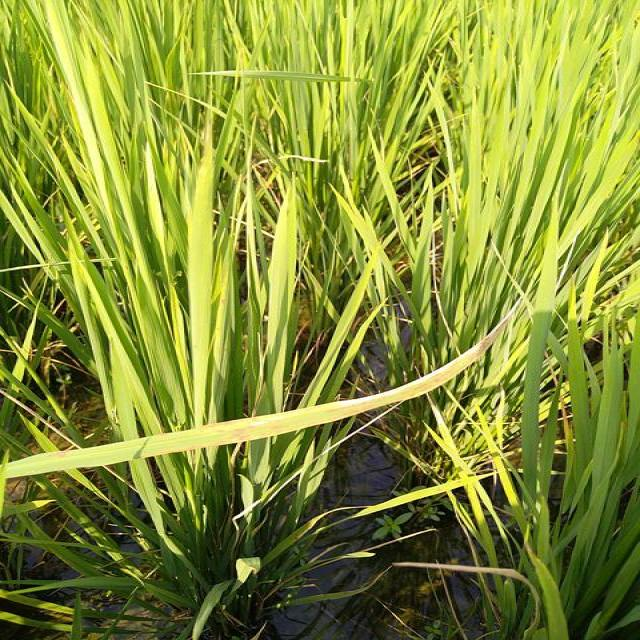Leaf Streak: (3, 297, 524, 481)
